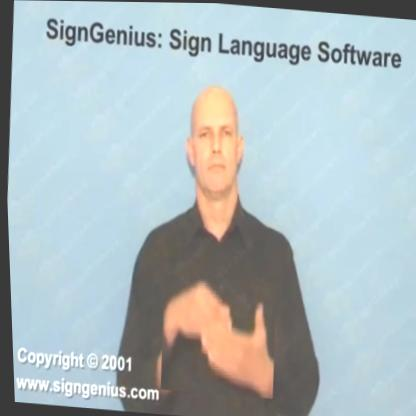Expensive: (154, 273, 278, 398)
